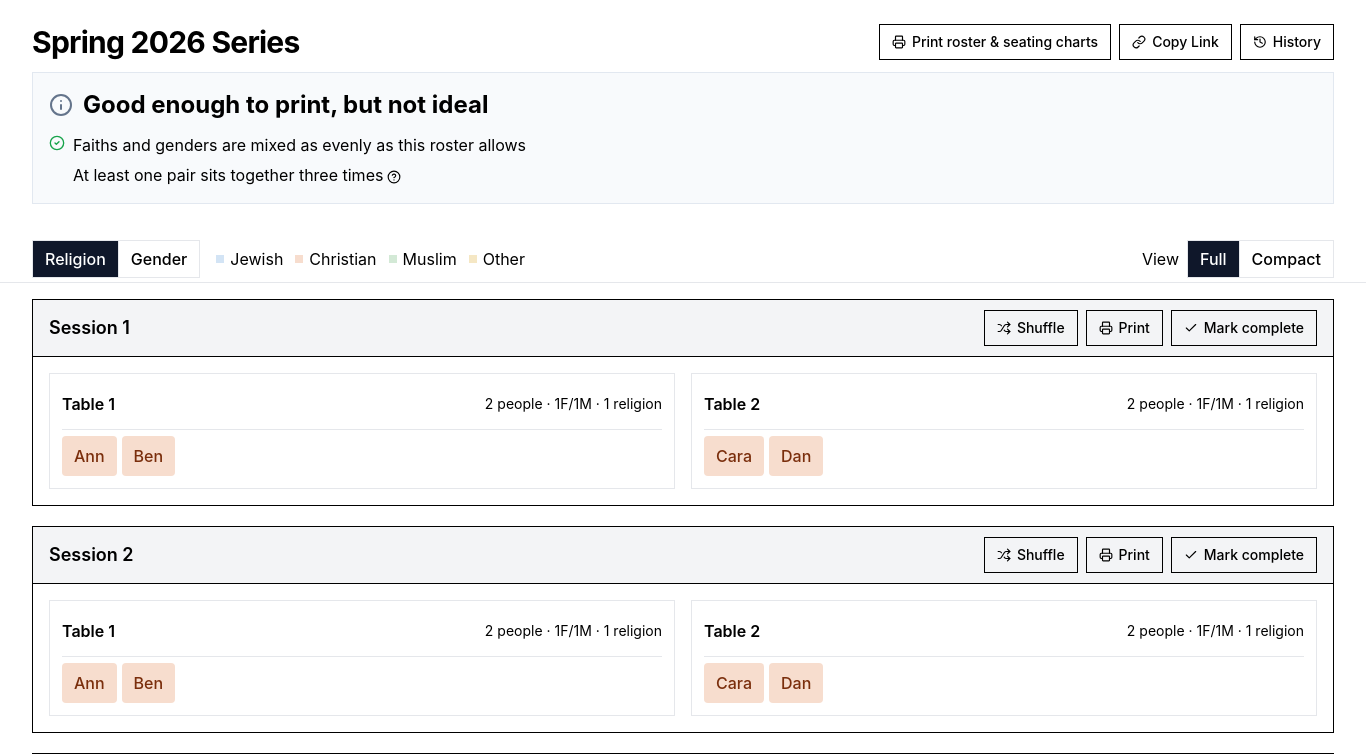
AssignmentsPage › states the reason and offers no Promote for a version from an older set
Press Enter in the button "History", box [1240,24,1334,60]
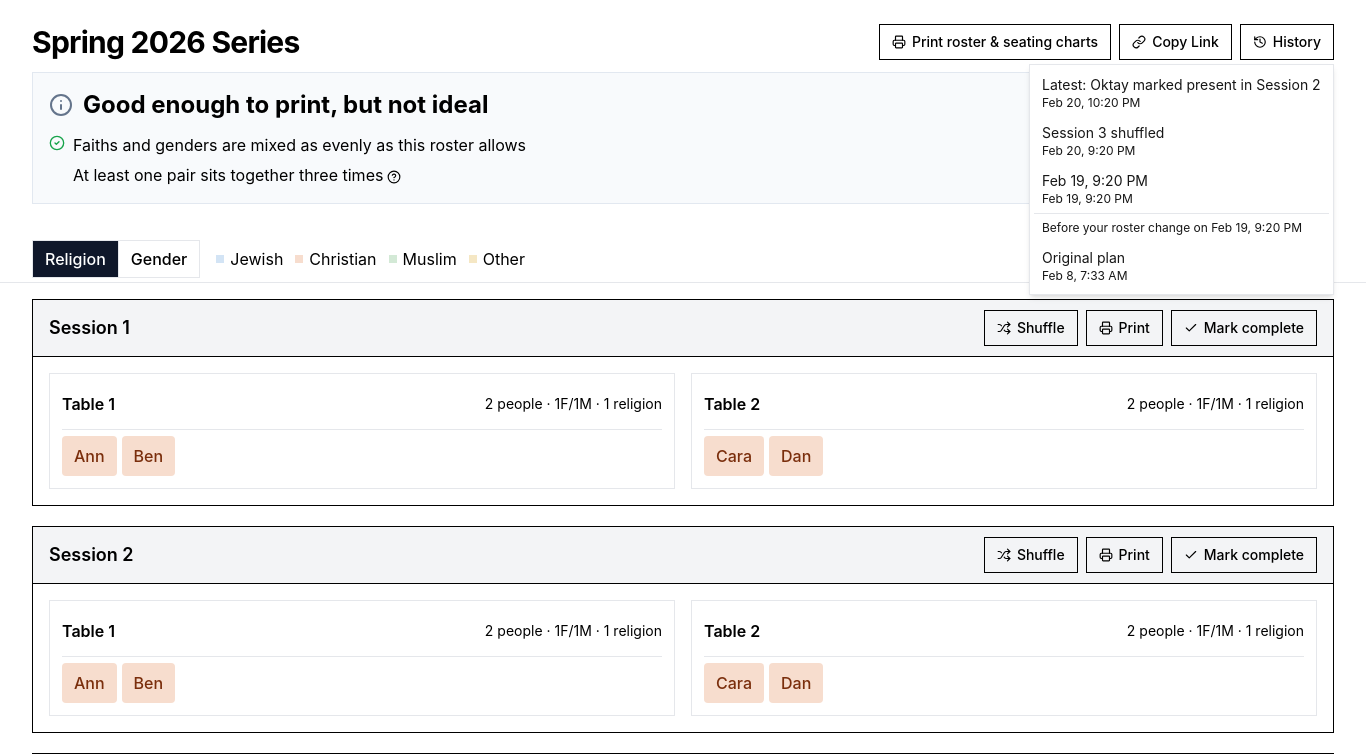
Click the menu item "Original plan Feb 8, 7:33 AM" at (1085, 266), box [1042,249,1128,283]
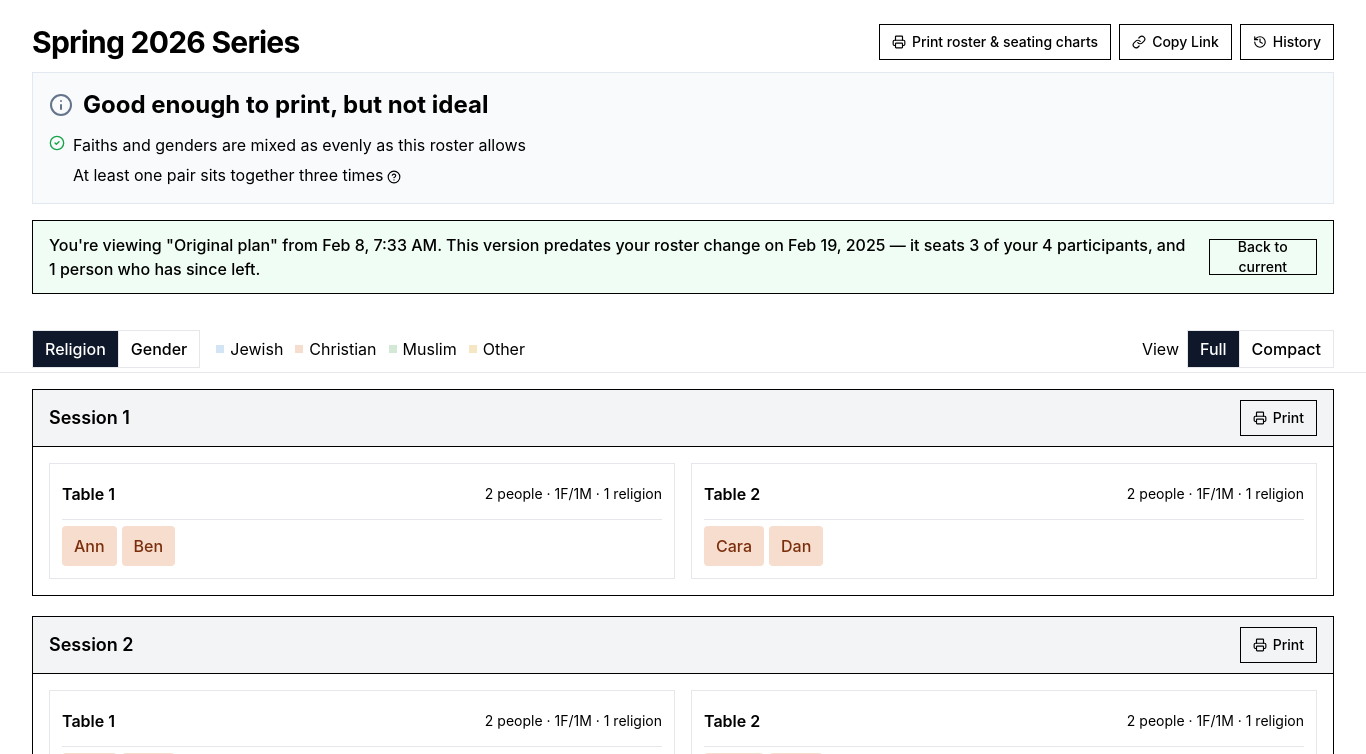
Result: the text "predates your roster change" is shown at [49,235,1186,279]
Result: the button "Back to current" is shown at [1208,239,1317,275]
